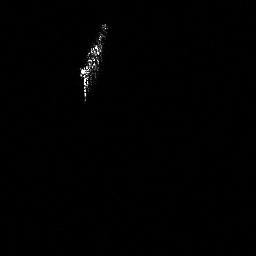ship: (75, 20, 110, 105)
